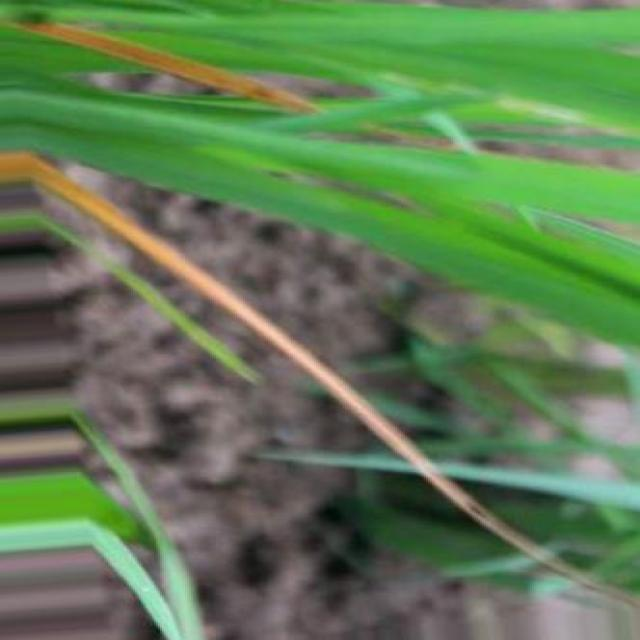Rice Tungro: (0, 151, 633, 604), (21, 24, 314, 112)
